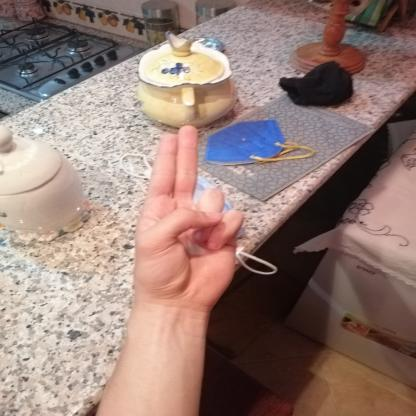TA: (119, 119, 255, 316)
